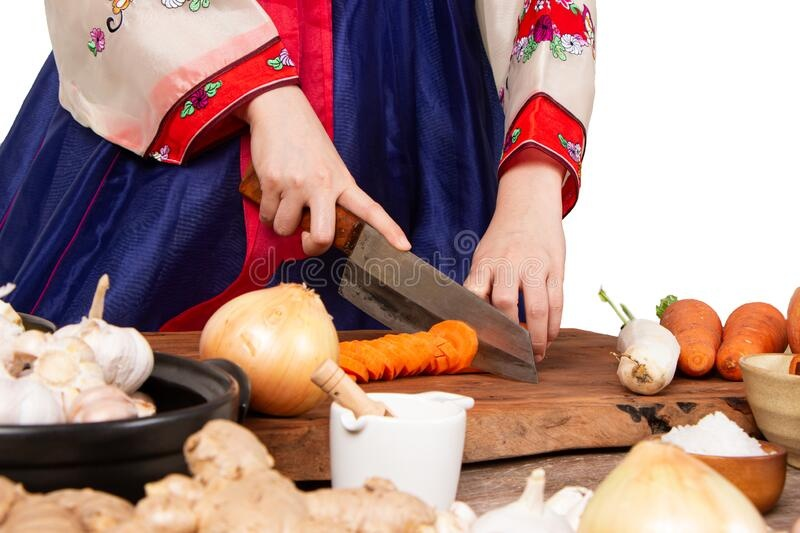knife: (236, 162, 543, 383)
